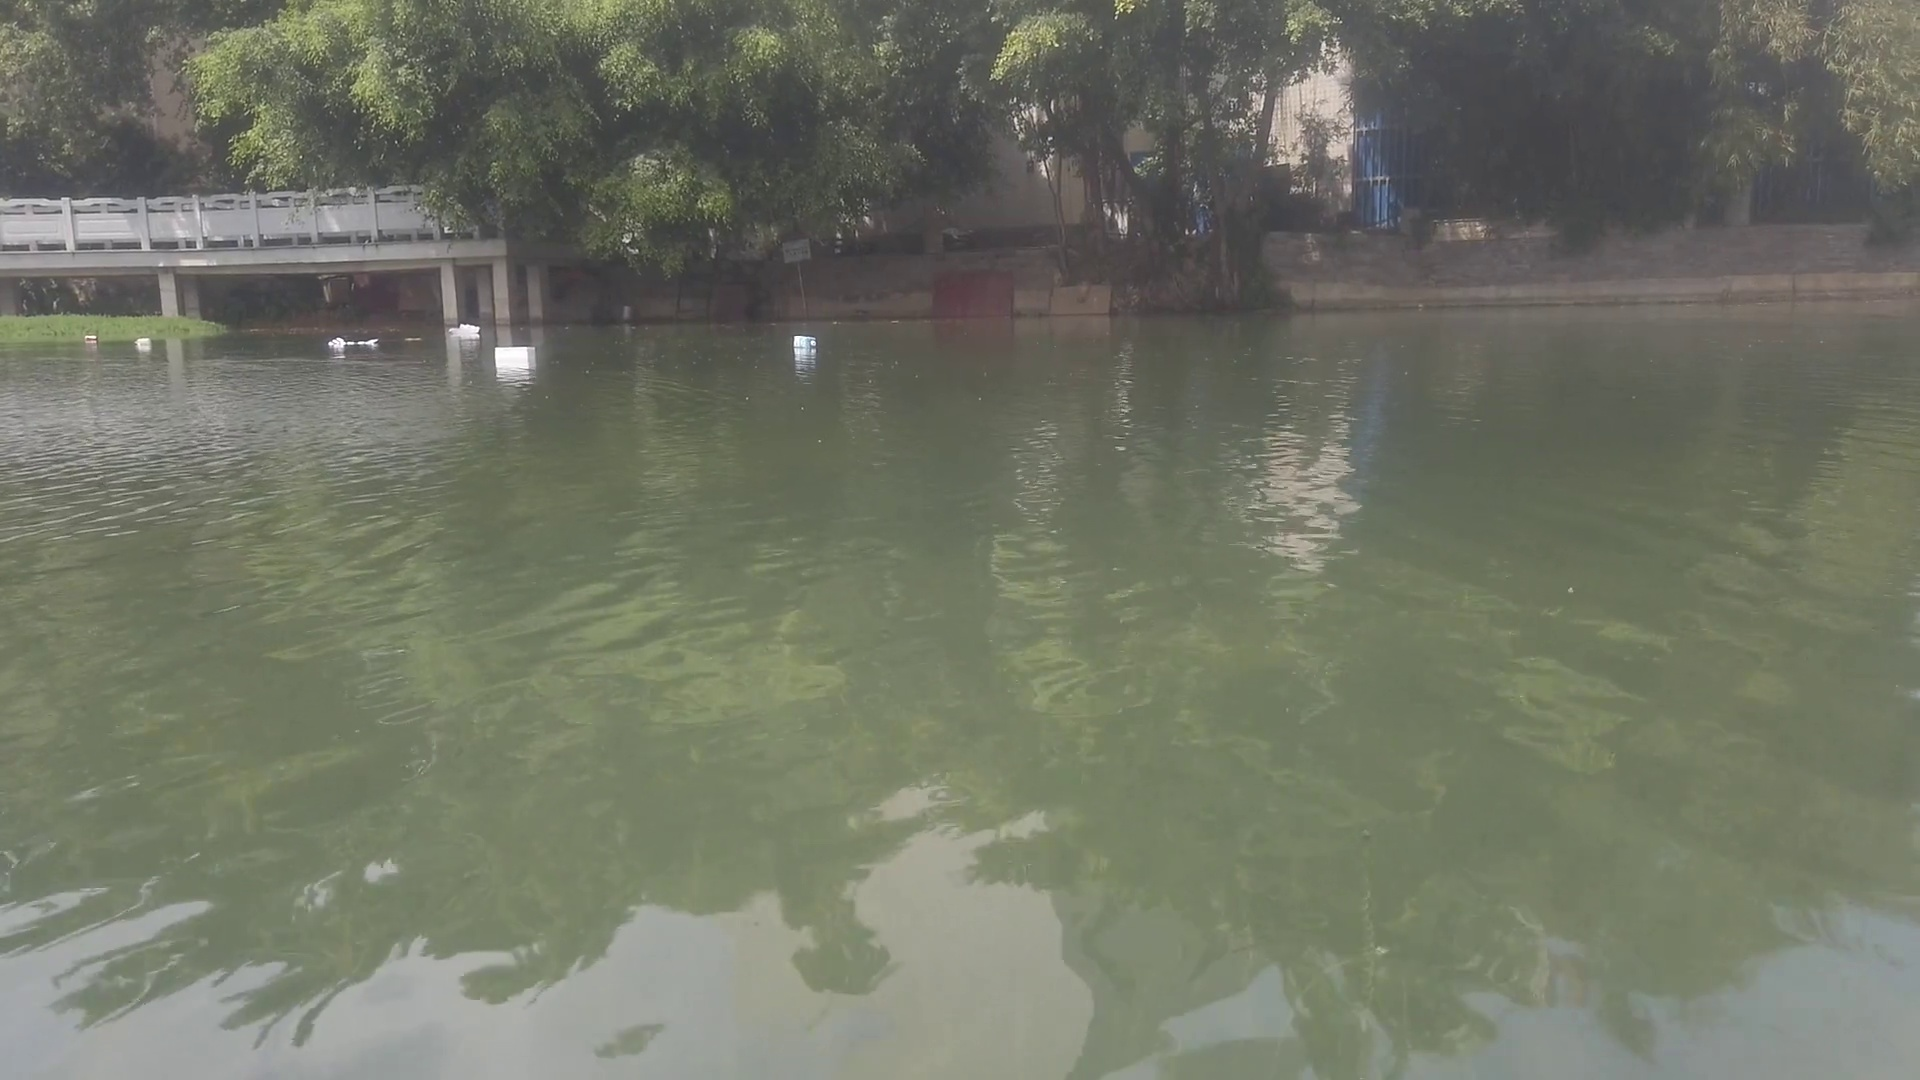bottle: (82, 330, 98, 342)
carton: (492, 344, 541, 363), (791, 328, 820, 347), (132, 334, 154, 347)
paper: (328, 330, 378, 353), (401, 334, 422, 347), (326, 351, 345, 361)
plastic: (448, 320, 481, 339)
